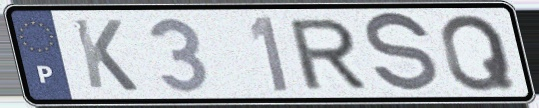1: (246, 13, 291, 94)
3: (146, 14, 212, 95)
K: (68, 16, 142, 94)
Q: (438, 12, 519, 94)
R: (284, 15, 370, 92)
S: (362, 9, 442, 98)
